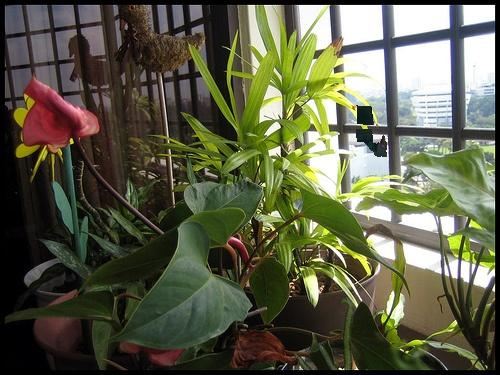tampered: (357, 106, 387, 157)
